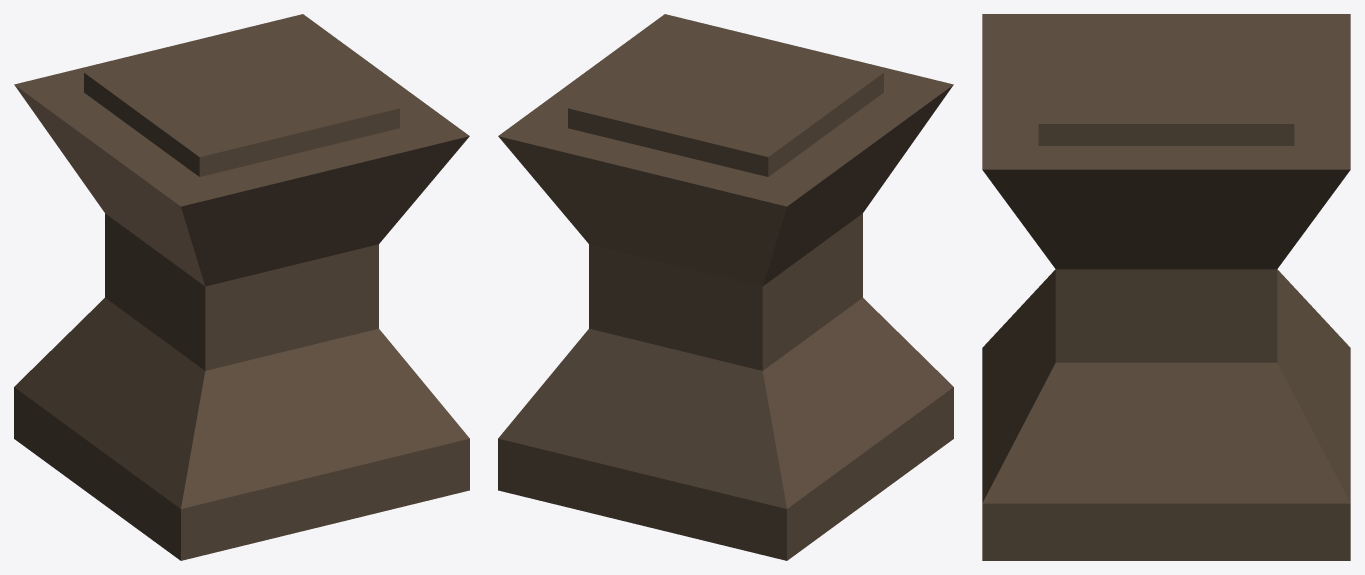
Rendered from gun_mantle.fbx.
3 renders of one model, left to right at view 1: azimuth 30°, elevation 25°; view 2: azimuth 150°, elevation 25°; view 3: azimuth 270°, elevation 25°, orthographic. The views are drawn at different scales.
Visible parts, largest first — view 1: Cube; view 2: Cube; view 3: Cube.
Boxes of the visible parts, x1=… form: Cube: x1=14, y1=14, x2=469, y2=560; Cube: x1=498, y1=14, x2=953, y2=560; Cube: x1=982, y1=14, x2=1350, y2=560.
Bounding box in the file's own units: 200 × 247 × 200.
